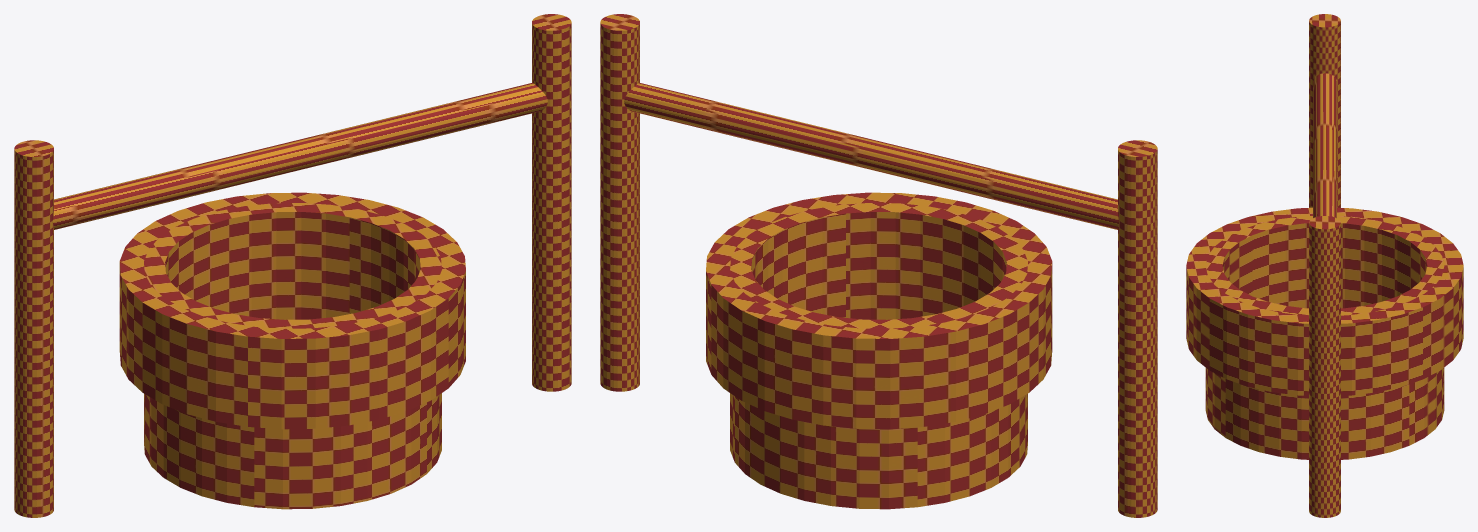
The model's file is Solbourg_Puits.fbx.
The picture shows the model from 3 angles, left to right: view 1: azimuth 30°, elevation 25°; view 2: azimuth 150°, elevation 25°; view 3: azimuth 270°, elevation 25°; orthographic projection. The views are drawn at different scales.
Visible parts, largest first — view 1: Puits_Pierre, Puits_Bois; view 2: Puits_Pierre, Puits_Bois; view 3: Puits_Pierre, Puits_Bois.
Part boxes in pixels (<box>): Puits_Pierre: <box>119,192,465,509</box>; Puits_Bois: <box>14,14,571,517</box>; Puits_Pierre: <box>706,192,1052,509</box>; Puits_Bois: <box>600,14,1157,517</box>; Puits_Pierre: <box>1186,207,1463,459</box>; Puits_Bois: <box>1309,14,1340,517</box>.
Size of the model in its own units: 640 by 400 by 349.
2 materials, 2 textured.
